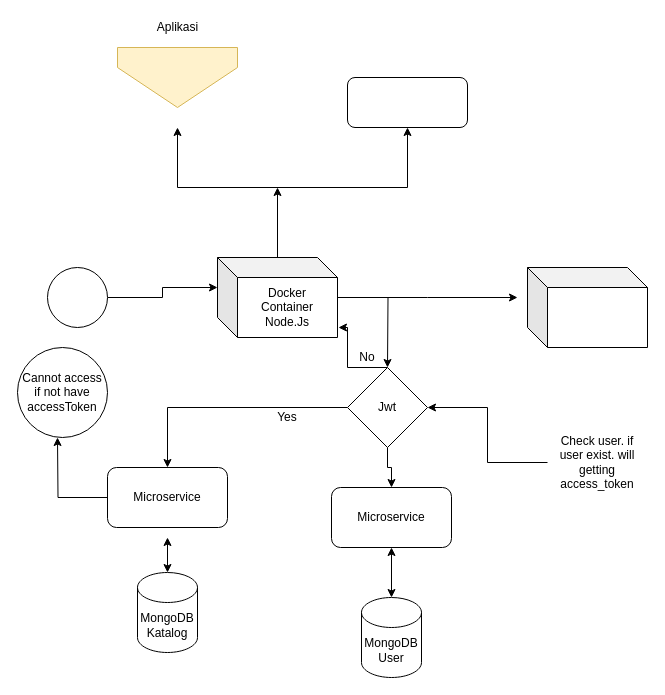
Image size: 665x695. Some labels were removed from this diagram. Each missing label, with the centre of its shape:
Deploy AWS, Azure, dll: the point at 407,102
Docker Hub: the point at 587,307
Source code: the point at 77,297
UI: the point at 177,77
